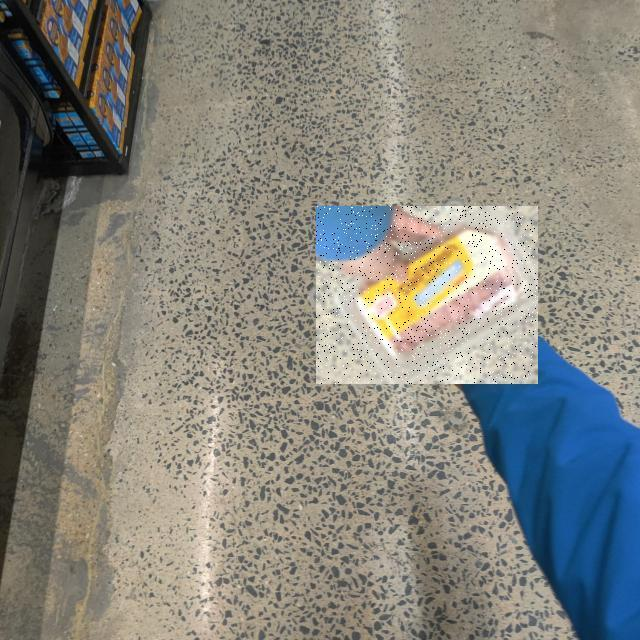Meat: (316, 206, 538, 384)
